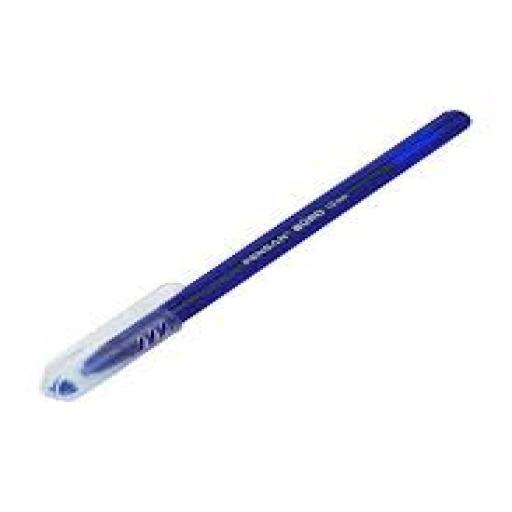tukenmez-kalem: (32, 88, 490, 408)
